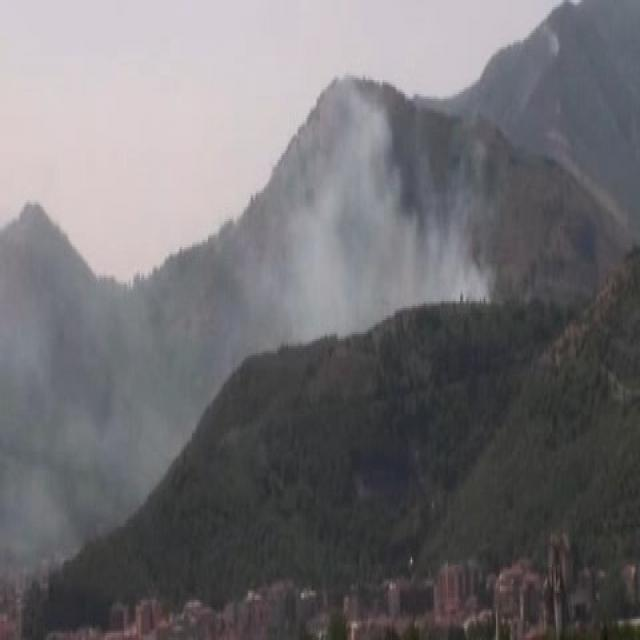smoke: (277, 103, 487, 317), (32, 307, 190, 468)
